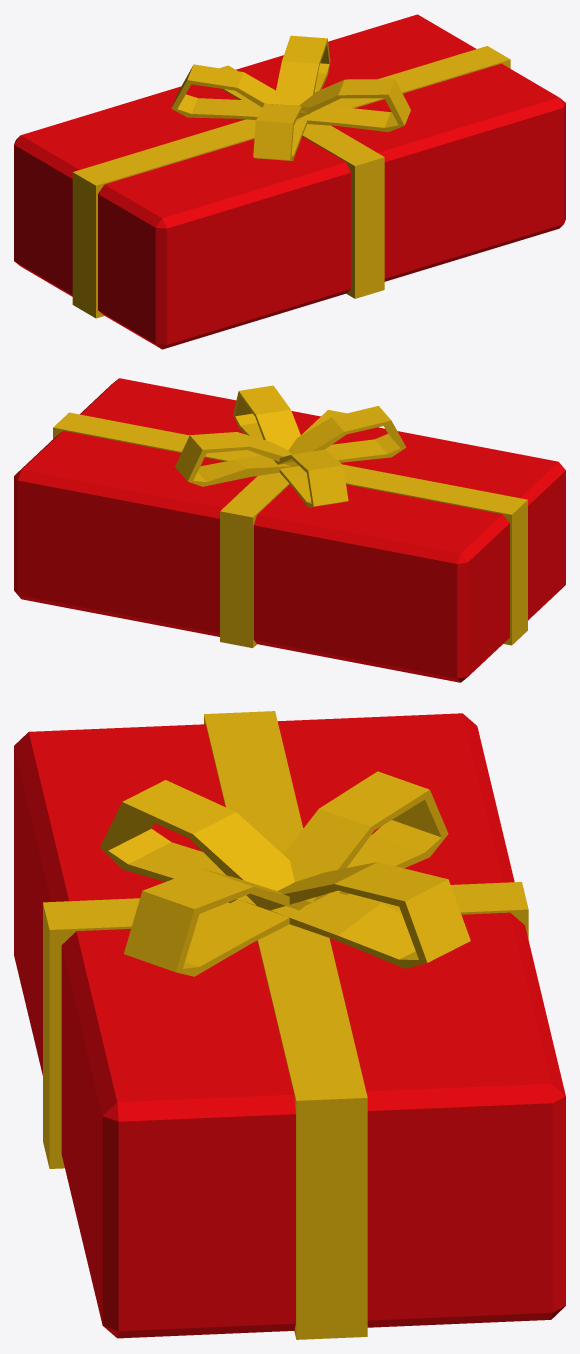
The model's file is gift2.fbx.
The picture shows the model from 3 angles, top to bottom: view 1: azimuth 30°, elevation 25°; view 2: azimuth 150°, elevation 25°; view 3: azimuth 270°, elevation 25°; orthographic projection. The views are drawn at different scales.
Parts seen in each view (by area): view 1: RedGift; view 2: RedGift; view 3: RedGift.
Part boxes in pixels (box(x1,y1,x2,y2)): RedGift: box(14, 14, 565, 349); RedGift: box(14, 378, 565, 682); RedGift: box(14, 711, 565, 1339).
Size of the model in its own units: 84.89 by 30.02 by 49.35.
